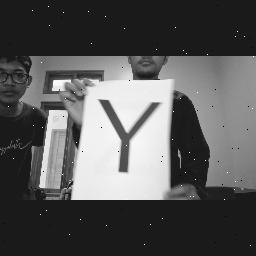y: (96, 96, 168, 176)
